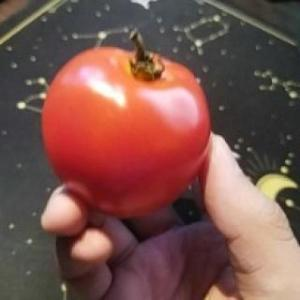tomato: (45, 43, 215, 225)
